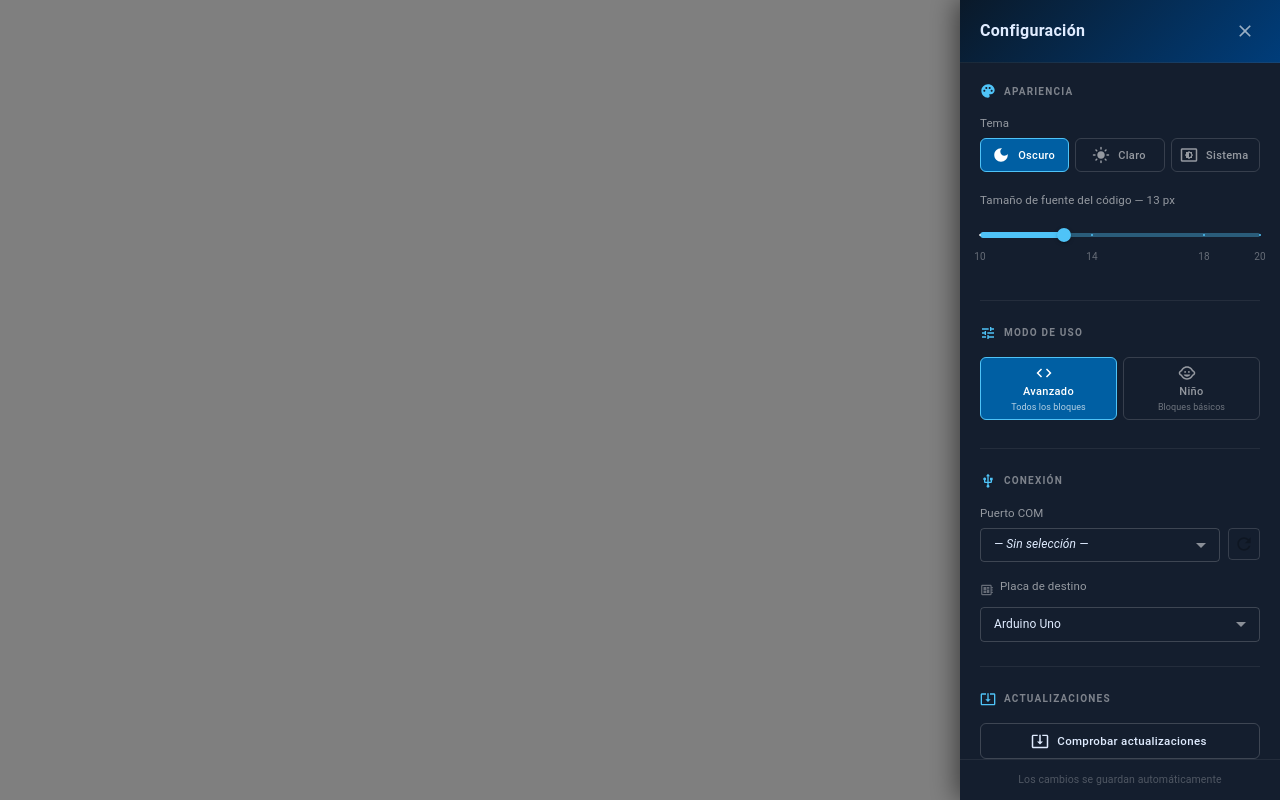
Test: SettingsDialog en modo escritorio › informa cuando sí hay actualización
This screenshot has width=1280, height=800.
Click the button "Comprobar actualizaciones": (1120, 741) [980,723,1260,759]
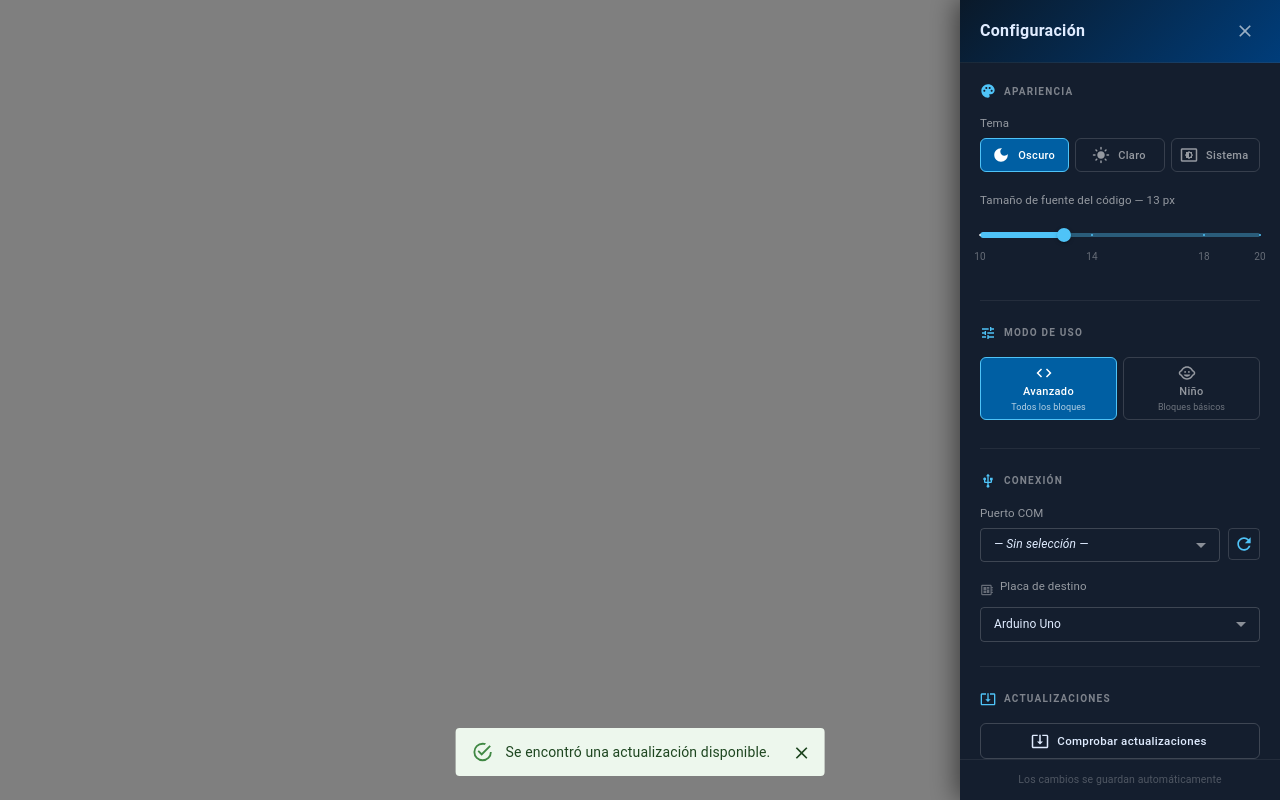
Result: the text "Se encontró una actualización disponible." is shown at [506,744,770,760]
